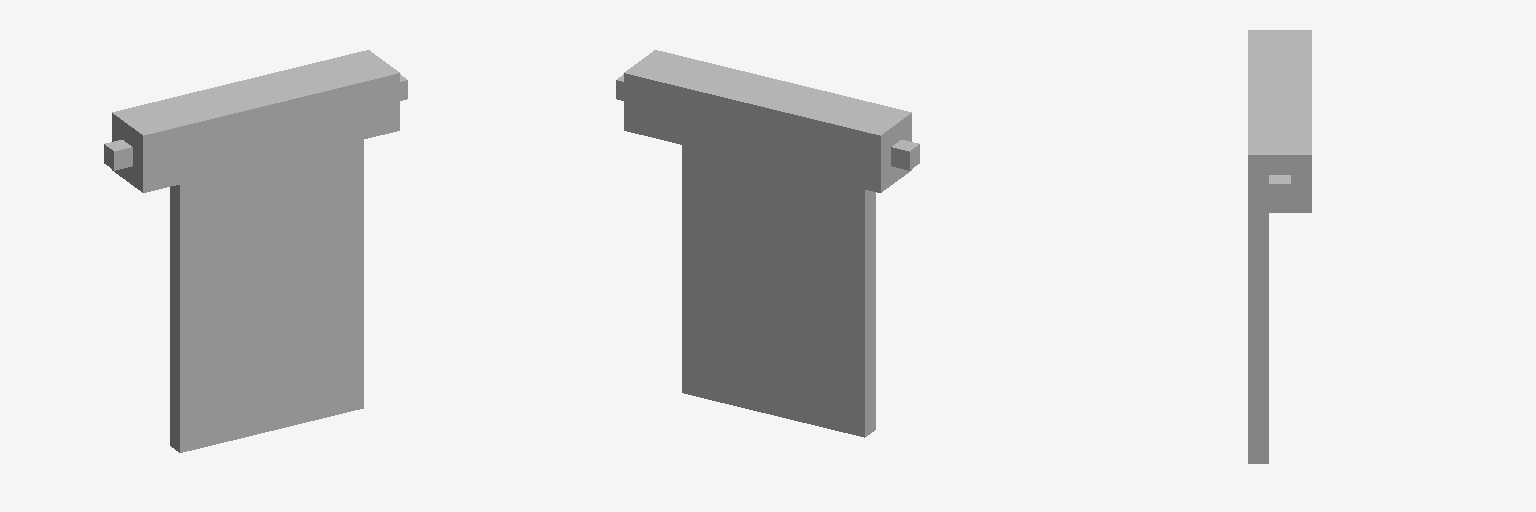
Rendered from dragonscroll.obj.
The picture shows the model from 3 angles: view 1: azimuth 30°, elevation 25°; view 2: azimuth 150°, elevation 25°; view 3: azimuth 270°, elevation 25°; orthographic projection.
Parts seen in each view (by area): view 1: cube; view 2: cube; view 3: cube.
Part boxes in pixels (bbox=[...]): cube: bbox=[104, 50, 407, 452]; cube: bbox=[616, 50, 919, 437]; cube: bbox=[1248, 30, 1311, 463].
Size of the model in its own units: 1 by 1.06 by 0.1875.